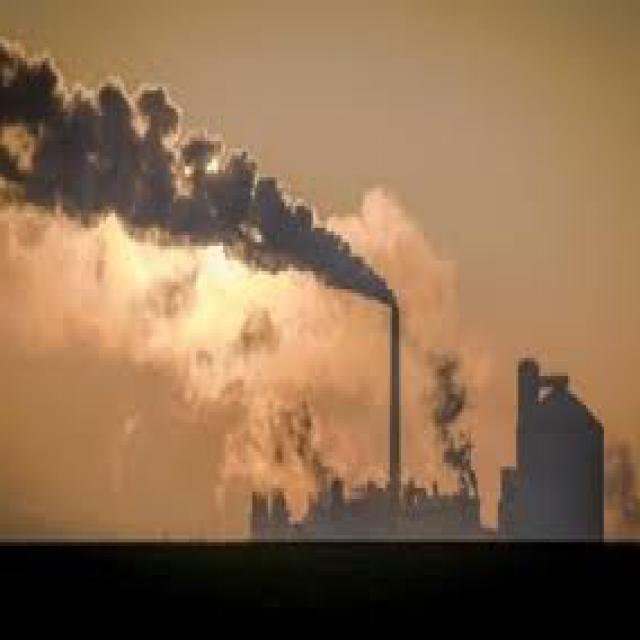Smoke: (0, 39, 411, 320)
